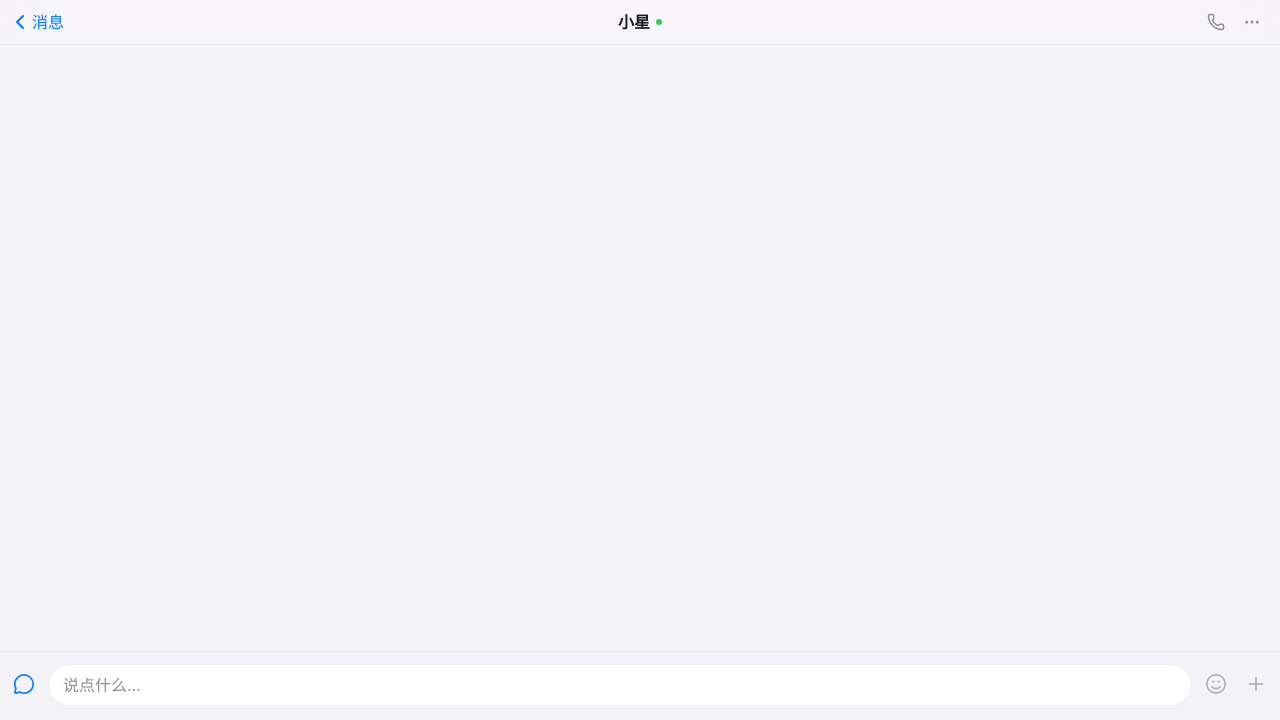
Test: ChatDetail input composer › tapping the + button opens the attachment drawer with photo and location entries
This screenshot has width=1280, height=720.
Press the mouse on the button with test id "xy-attach-trigger" at (1256, 684), box [1236,662,1276,706]
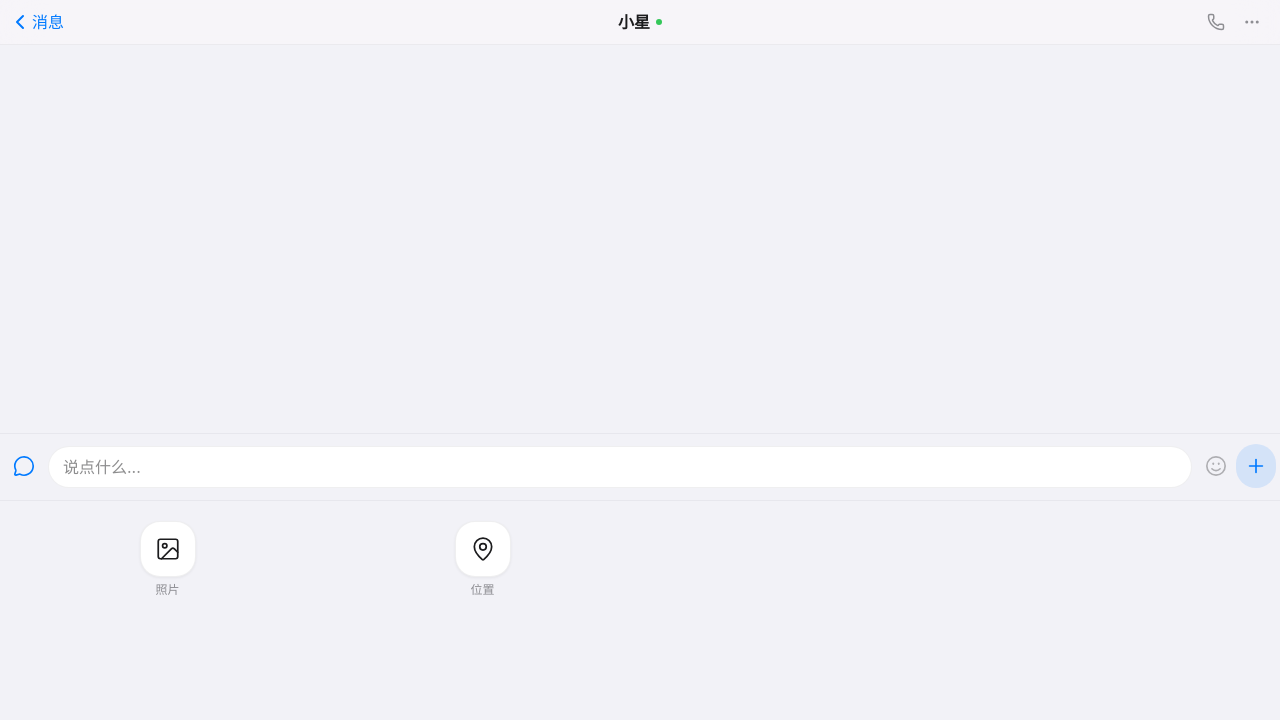
Result: the element with test id "xy-attachment-drawer" is shown at [0,500,1279,719]
Result: the button with test id "xy-attach-photo" is shown at [16,521,319,597]
Result: the button with test id "xy-attach-location" is shown at [331,521,634,597]
